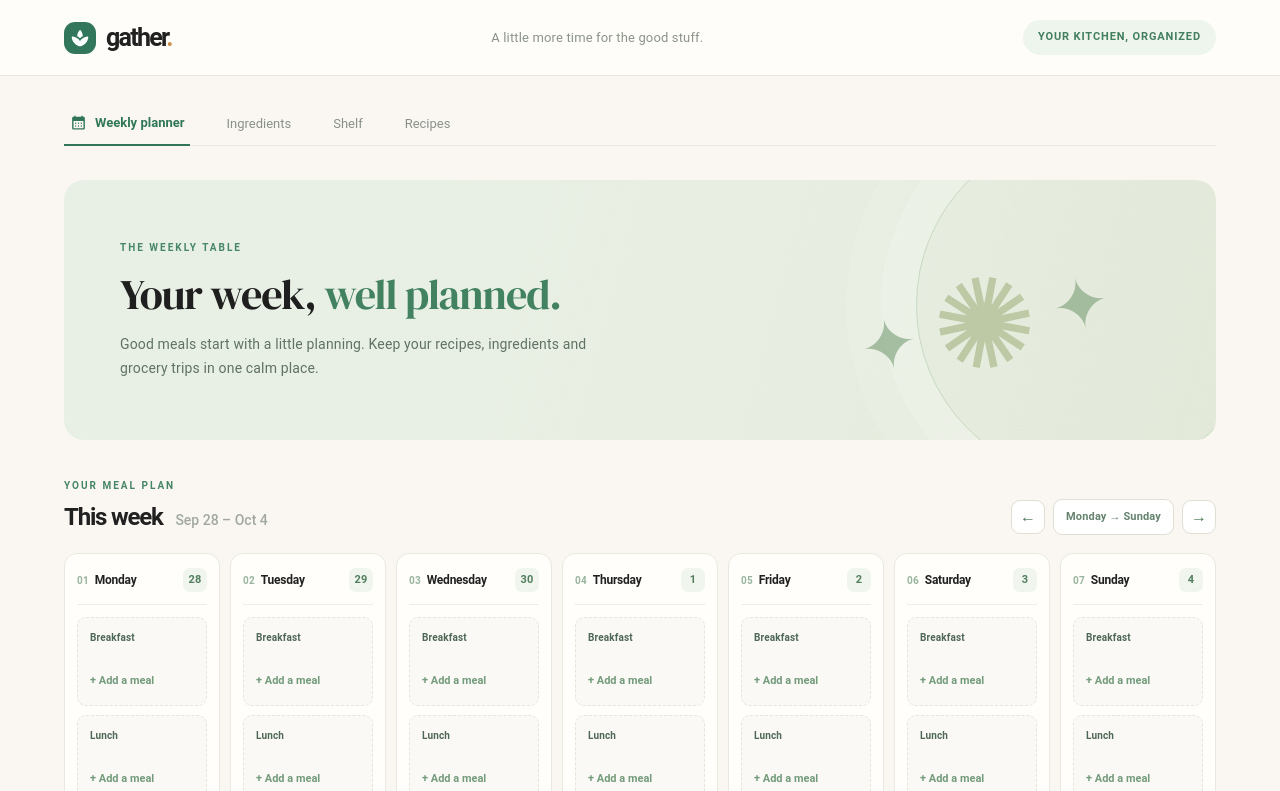
weekly meal planner › explains failed recipe requests and retries successfully
The image size is (1280, 791).
Click the button "Recipes" at {"x": 428, "y": 124}, box [399,102,456,146]
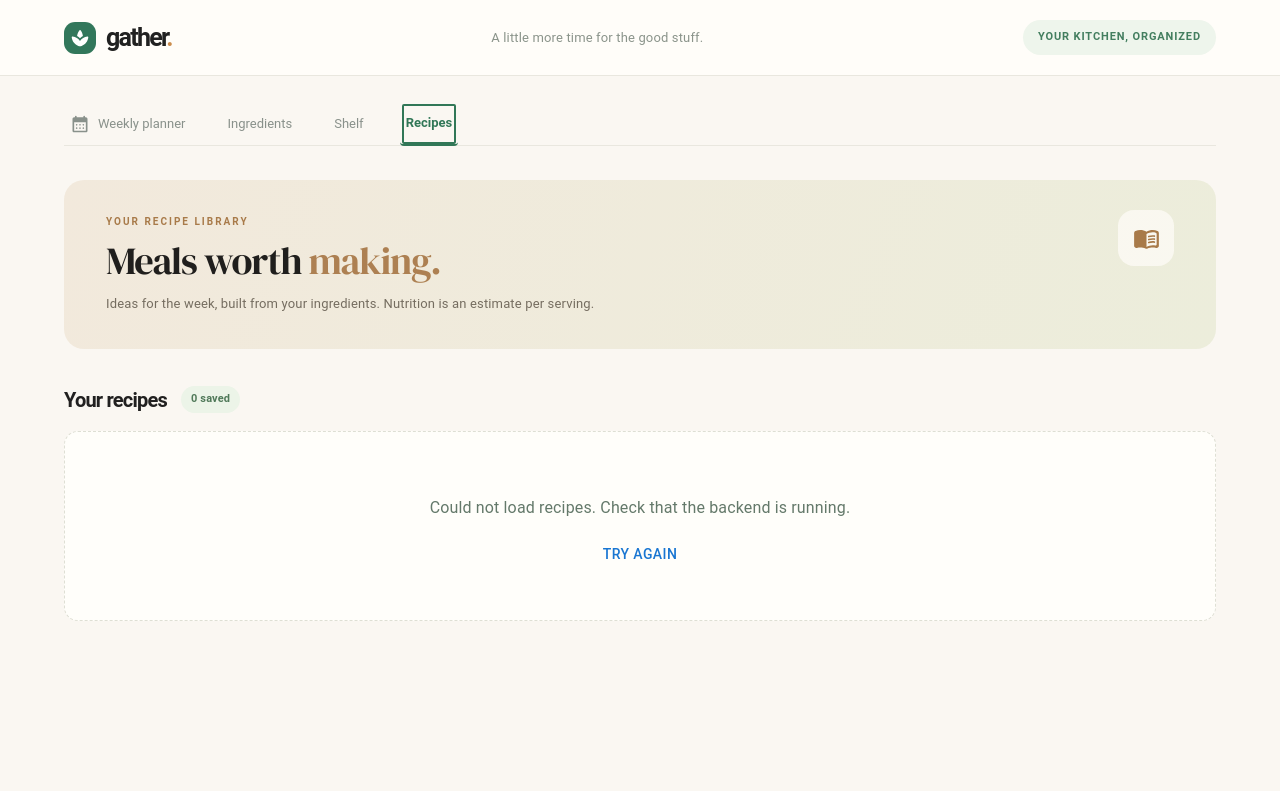
Expected: the message shows "Could not load recipes", [430,498,850,516]
Click the button "Try again" at {"x": 640, "y": 554}, box [595,536,685,572]
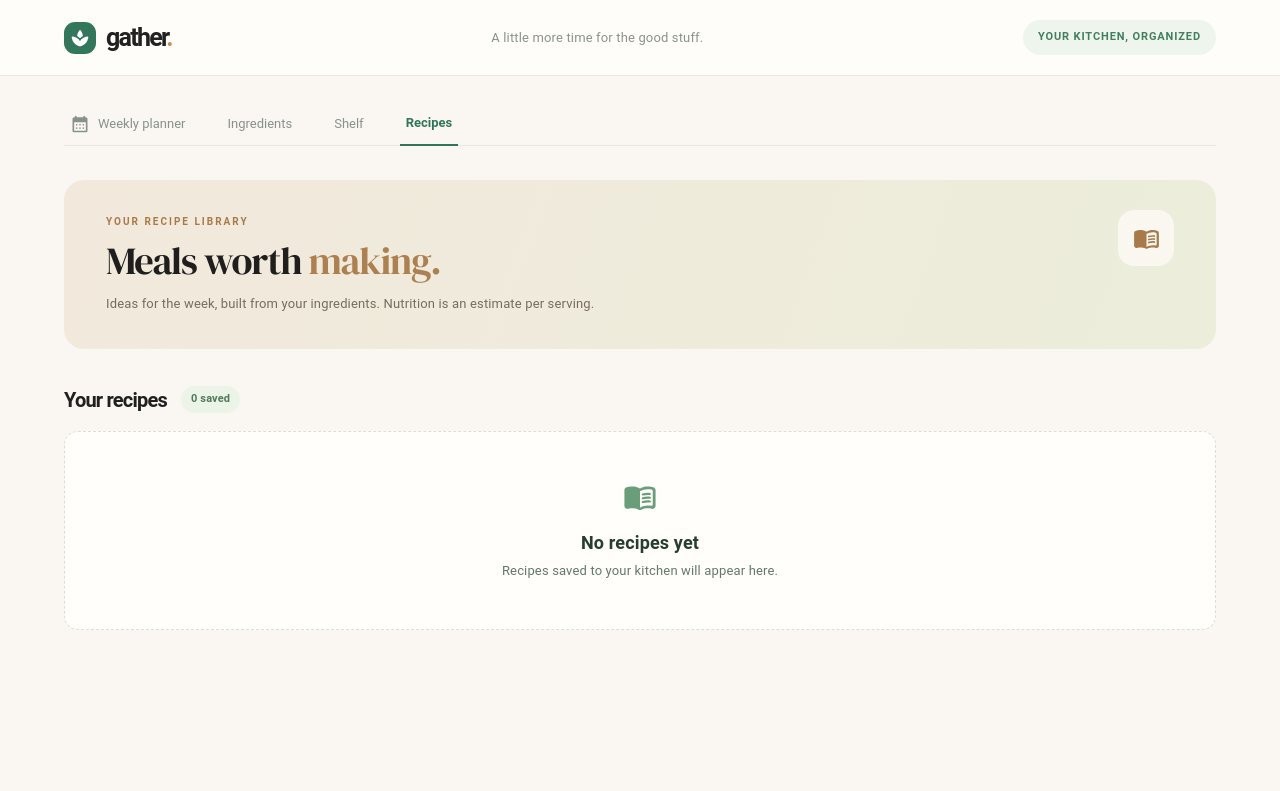
Expected: the heading "No recipes yet" is shown, [581,532,699,552]
